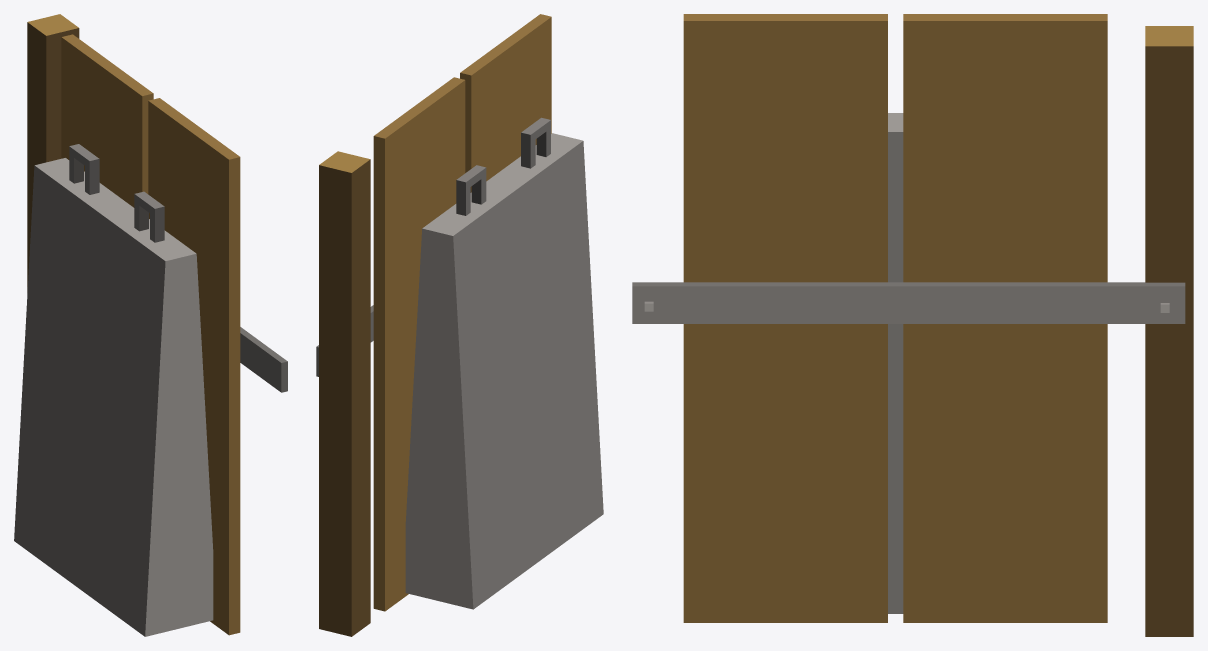
File: FenceWoodL_Concrete_05.fbx
3 renders of one model, left to right at view 1: azimuth 30°, elevation 25°; view 2: azimuth 150°, elevation 25°; view 3: azimuth 270°, elevation 25°, orthographic. The views are drawn at different scales.
Parts seen in each view (by area): view 1: FenceWoodL_Concrete_05; view 2: FenceWoodL_Concrete_05; view 3: FenceWoodL_Concrete_05.
Boxes of the visible parts, box(x1,y1,x2,y2) form: FenceWoodL_Concrete_05: box(14, 14, 287, 636); FenceWoodL_Concrete_05: box(316, 14, 603, 636); FenceWoodL_Concrete_05: box(632, 14, 1193, 636).
Size of the model in its own units: 1.45 by 5.09 by 6.03.
